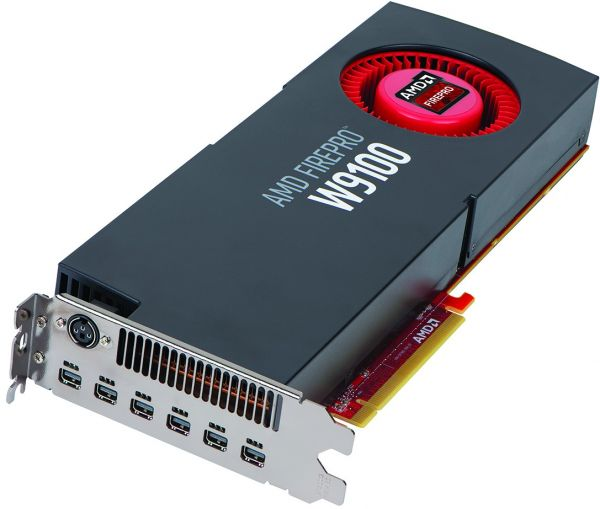PCIE Graphics Card: (1, 1, 600, 506)
